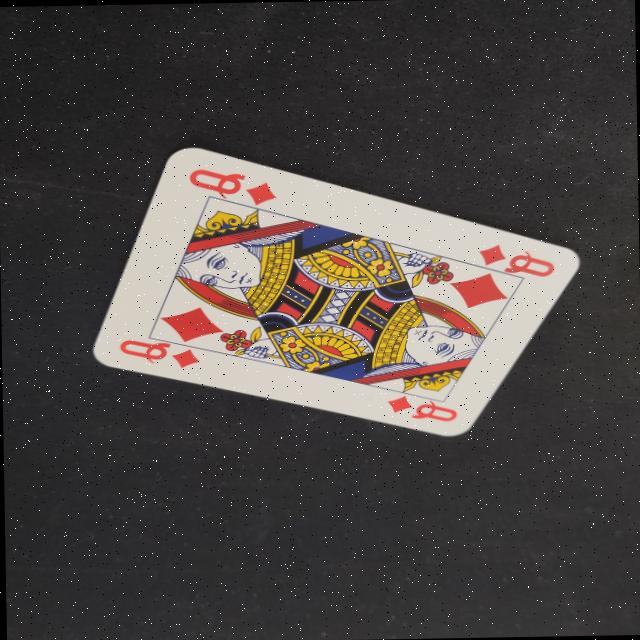Qd: (176, 154, 288, 212), (467, 234, 557, 284), (115, 330, 202, 372), (381, 386, 460, 425)
